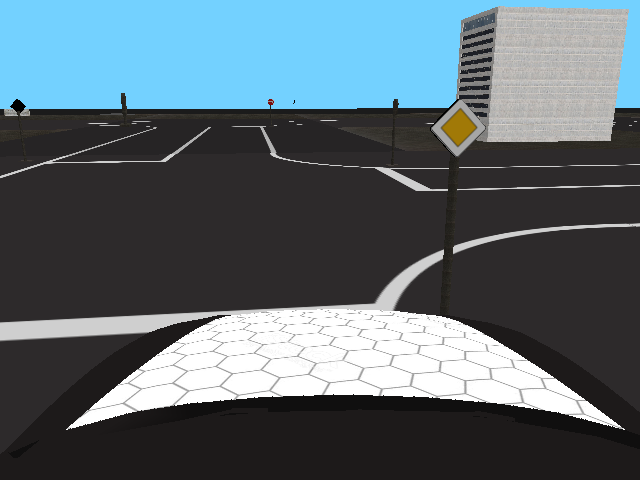priority: (430, 99, 486, 157)
